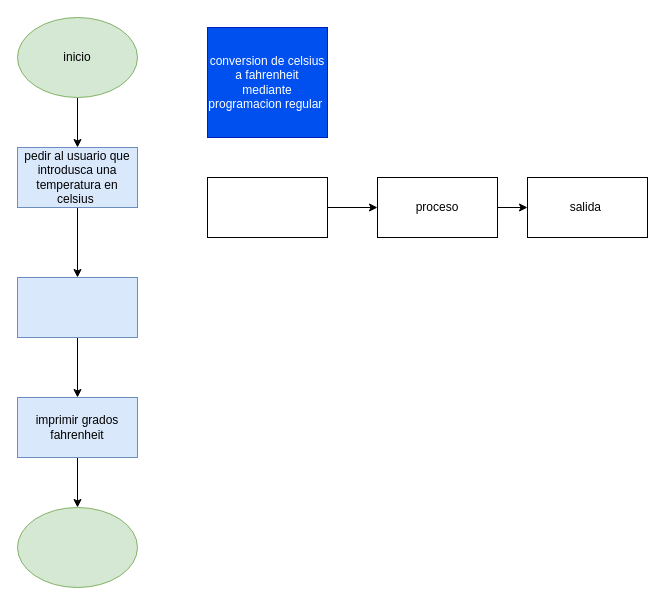
The diagram is 665 pixels wide and 605 high, and some of its shapes have lost their labels. The shapes that lost their labels are listed below. From the top down, each one's centre as x and y in pixels, then its label:
the point at 267,207: entrada
the point at 77,307: convertir la temperatura a fahrenheit
the point at 77,547: fin
